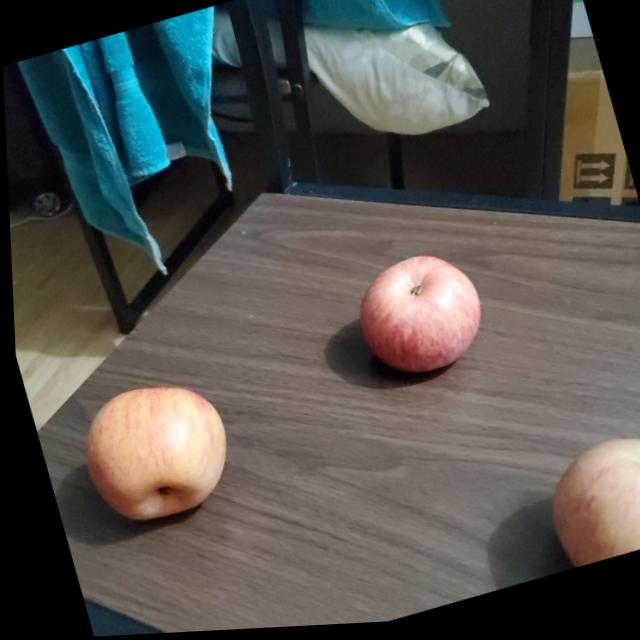apple: (63, 372, 234, 537), (343, 248, 490, 391), (526, 422, 640, 577)
